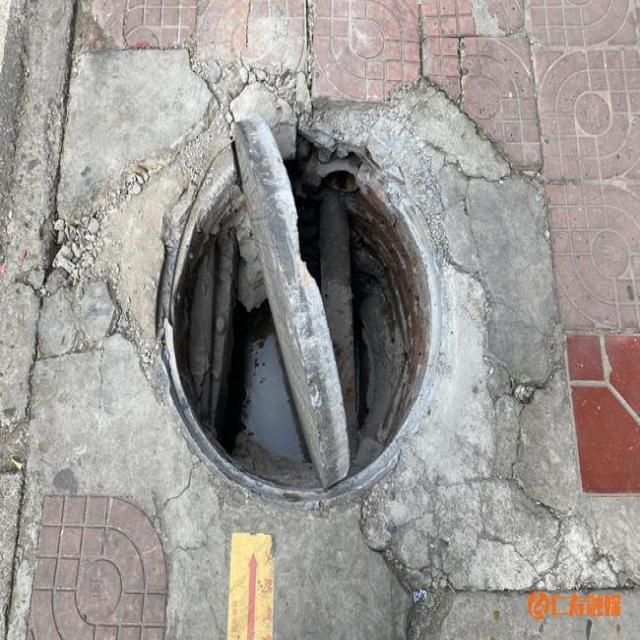manhole: (159, 136, 441, 498)
